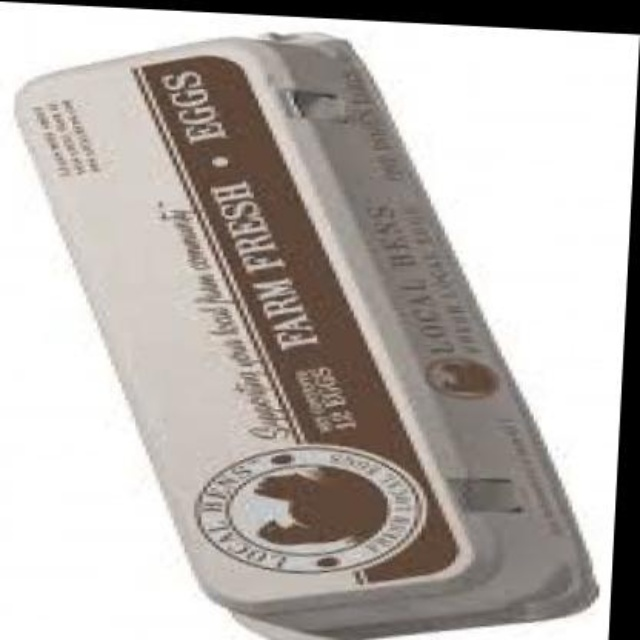trash: (15, 34, 597, 638)
